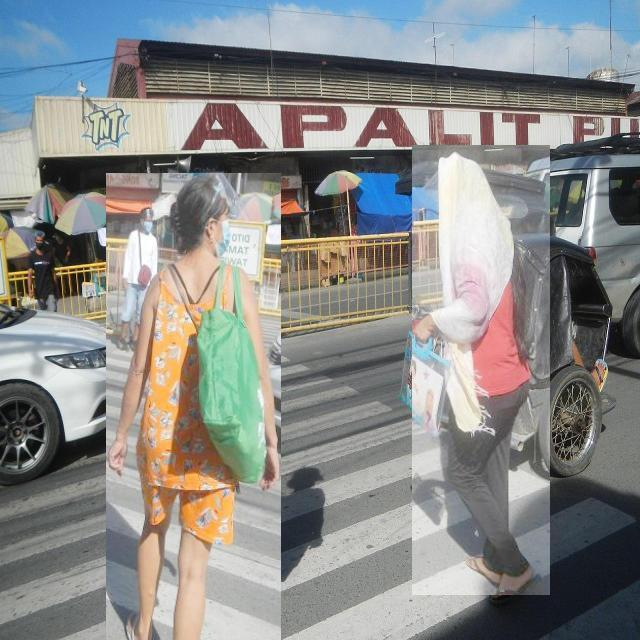without scooter: (106, 173, 281, 640), (412, 145, 550, 595)
